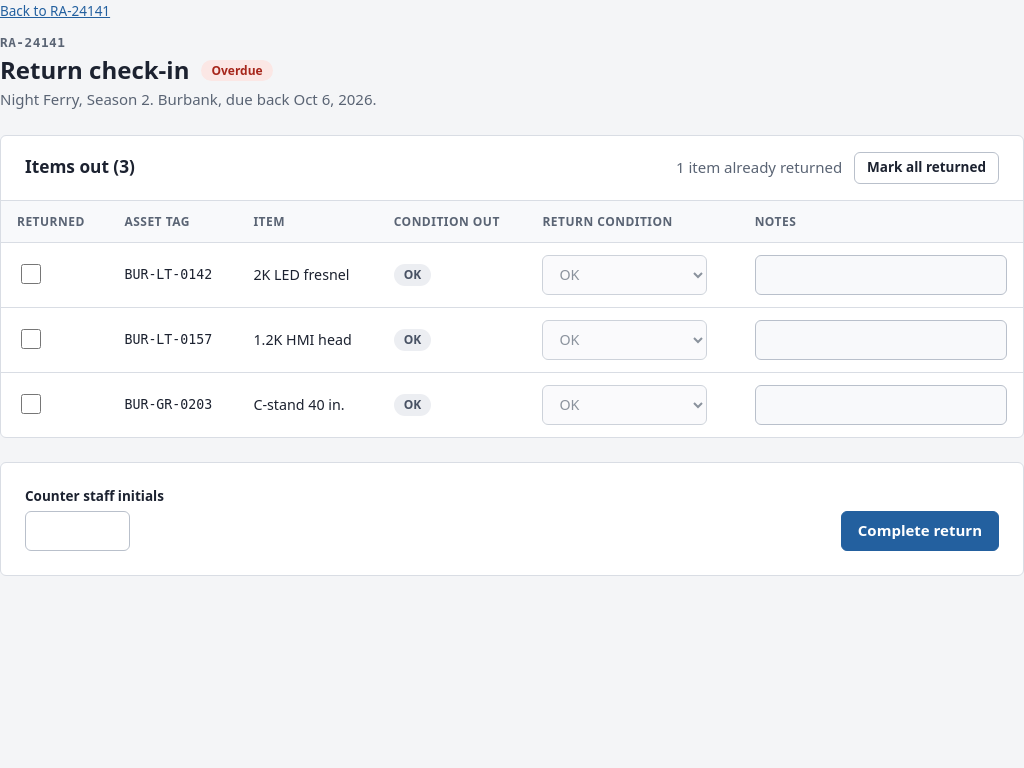
Test case: ReturnCheckIn › checks items in and flags damage to the Burbank counter lead
Click the checkbox named "Returned BUR-LT-0142": (31, 274) [21,264,41,284]
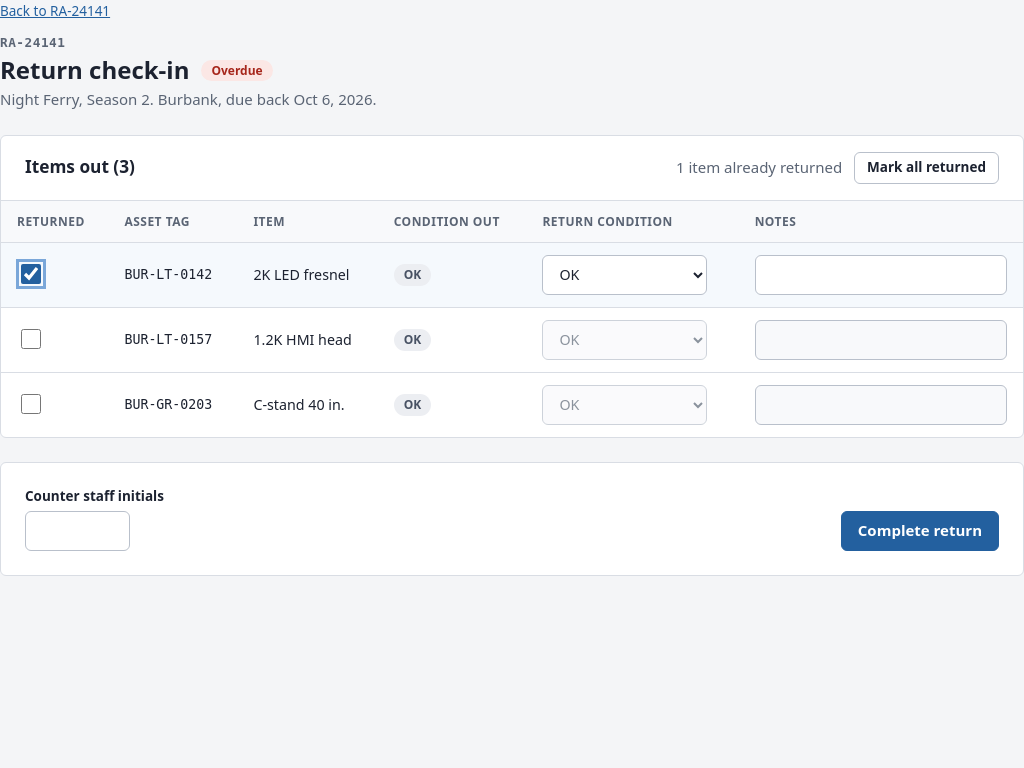
Click the checkbox named "Returned BUR-LT-0157": (31, 339) [21,329,41,349]
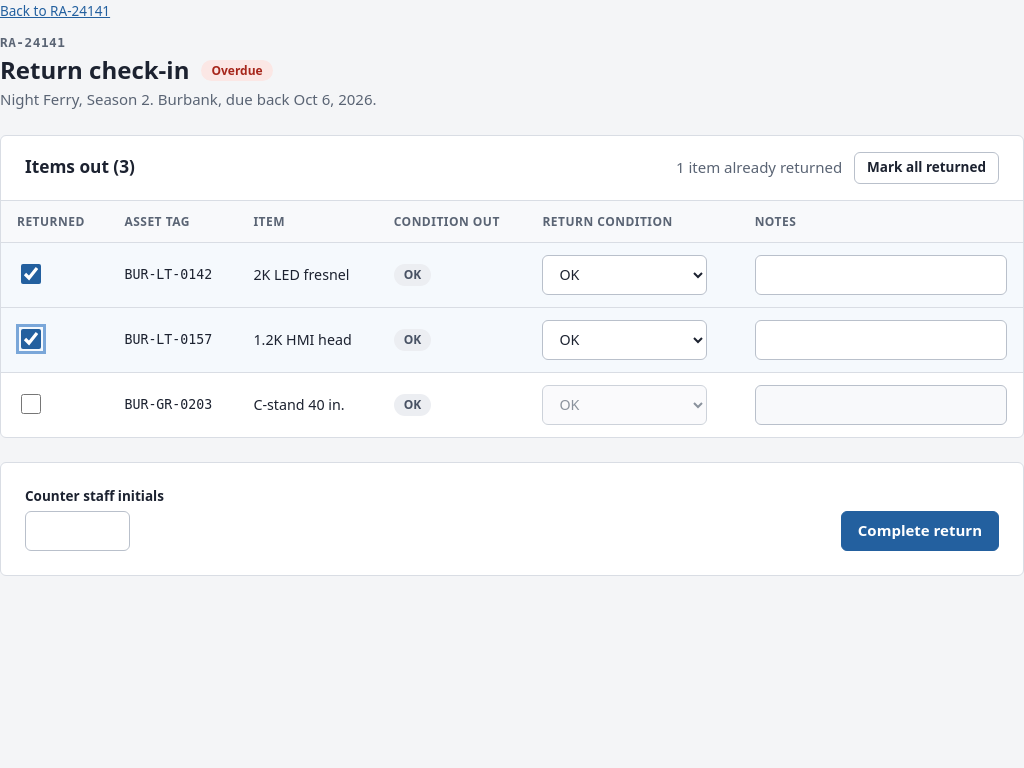
Select "Damaged" in the dropdown named "Return condition for BUR-LT-0157": (625, 340) [542,320,708,360]
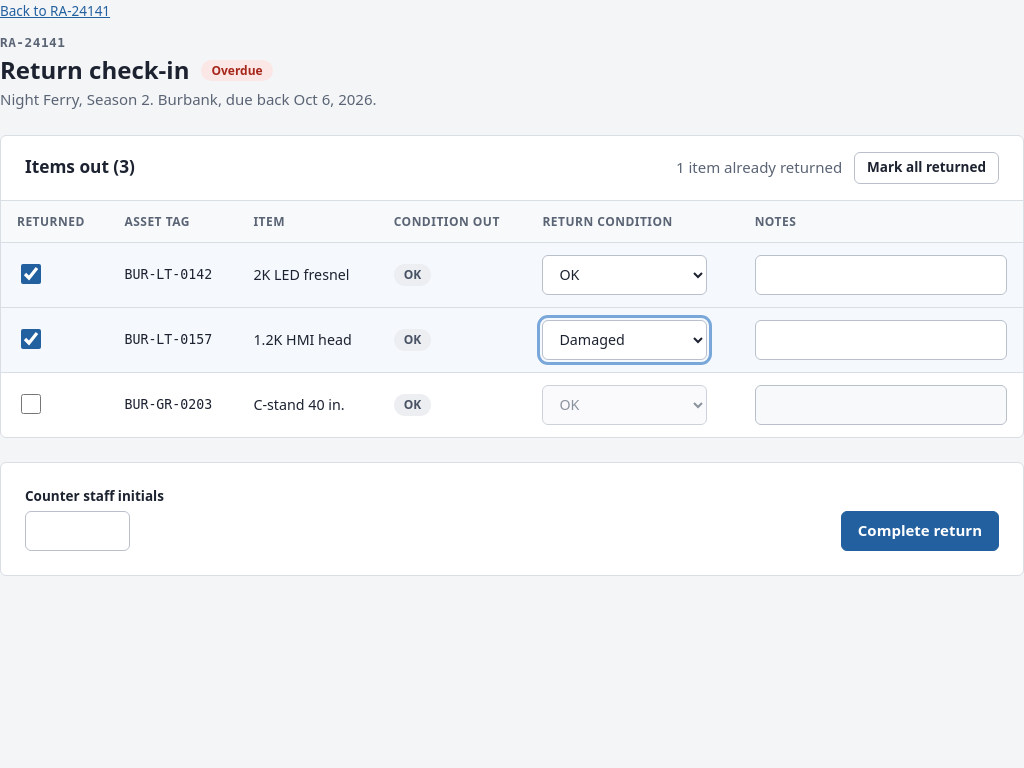
In the field named "Return notes for BUR-LT-0157": (881, 340) [755,320,1007,360], type "Front glass cracked."
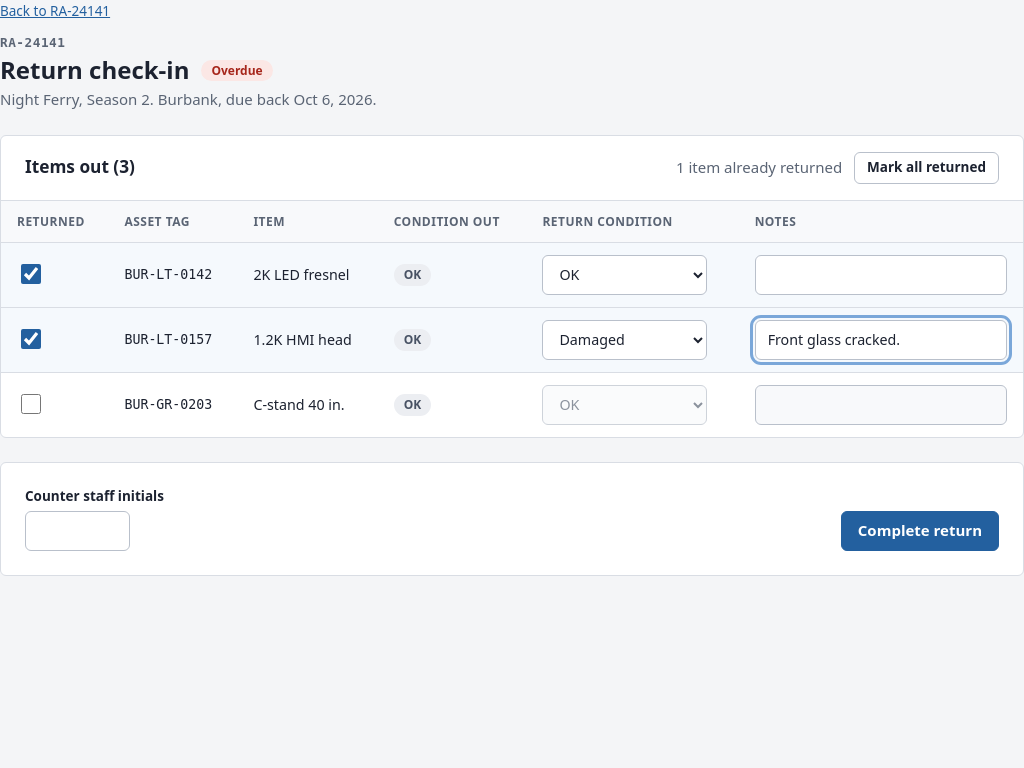
In the field labelled "Counter staff initials": (78, 530) [25,510,130,550], type "OF"
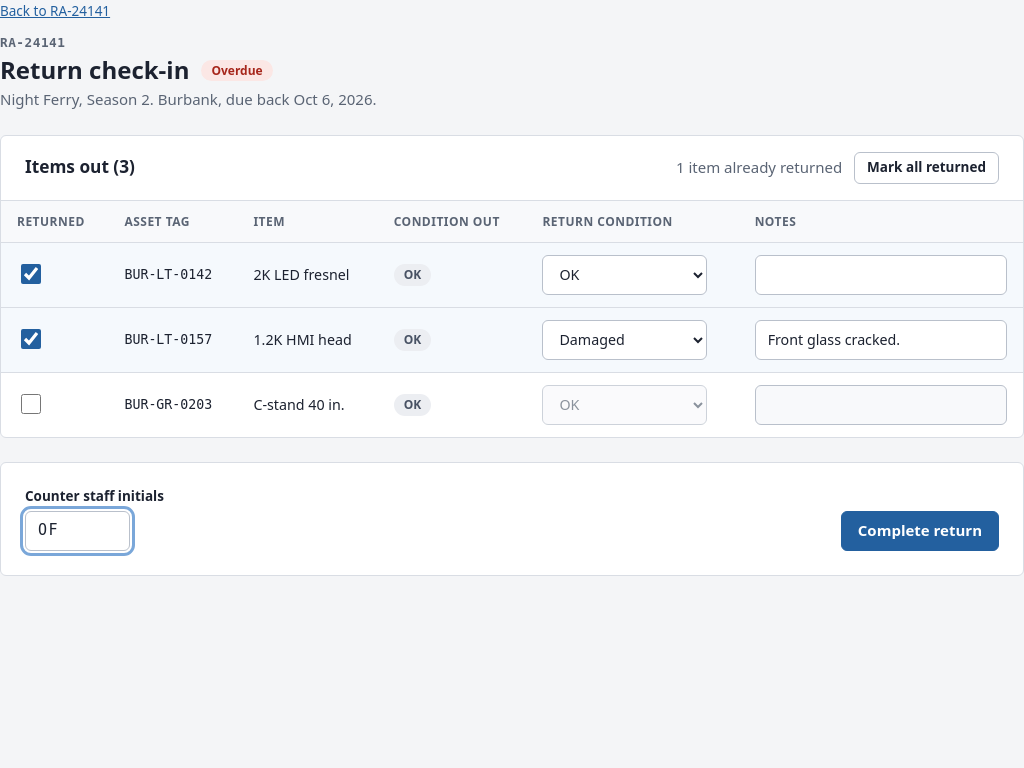
Click the button "Complete return": (920, 530) [841,510,999,550]
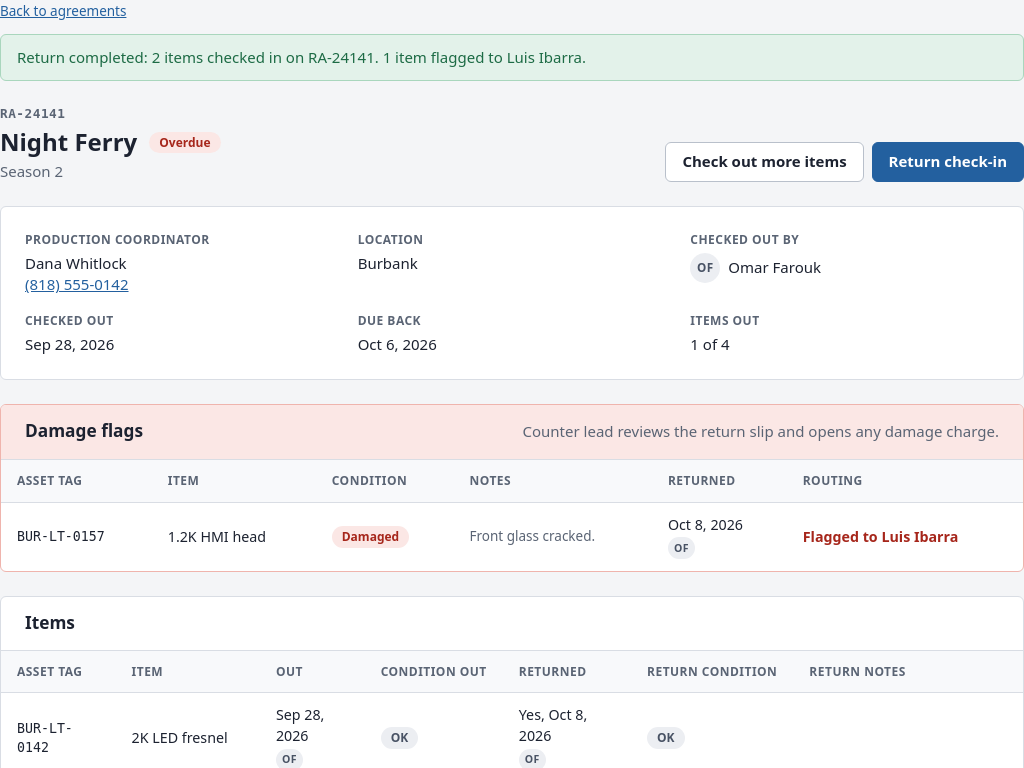
Check: the message reads "Return completed: 2 items checked in on RA-24141. 1 item flagged to Luis Ibarra.", box [17,47,586,67]
Check: the heading "Damage flags" is shown, box [25,421,143,442]
Check: the text "Flagged to Luis Ibarra" is shown, box [787,502,1023,571]
